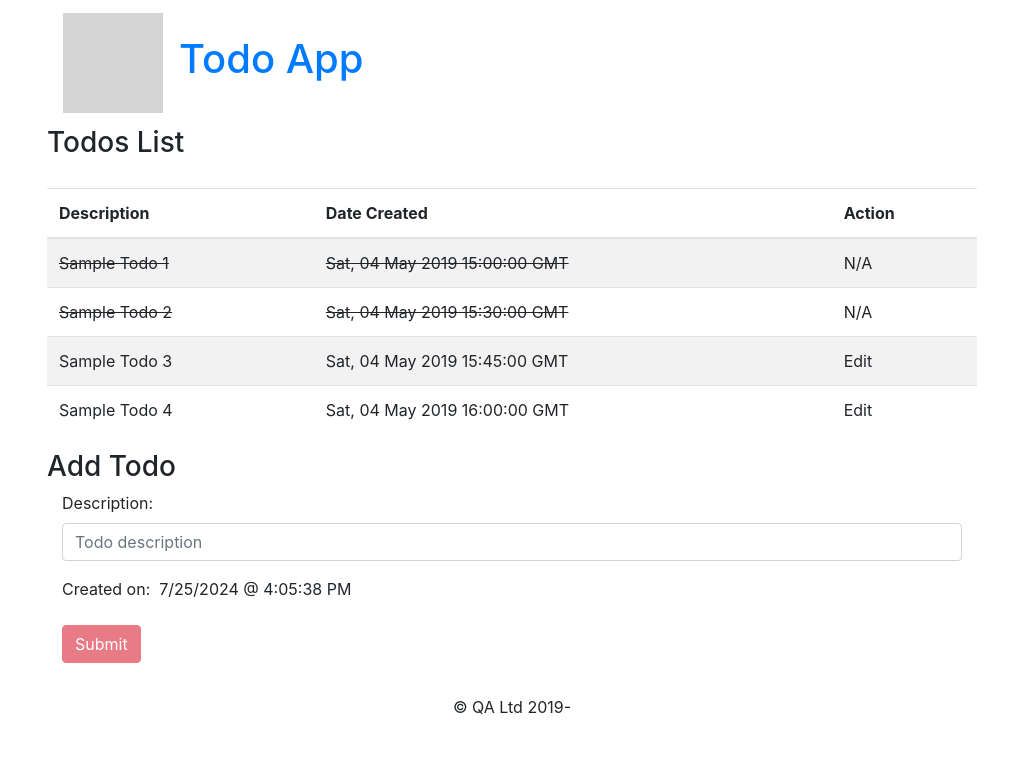
Test: Conditional renders dependent on result of data calls › should display the modal when postError state is truthy from a post request
Step 1. Type "Sample Todo" into the field with placeholder "Todo description" → (512, 542), box [62,523,962,561]
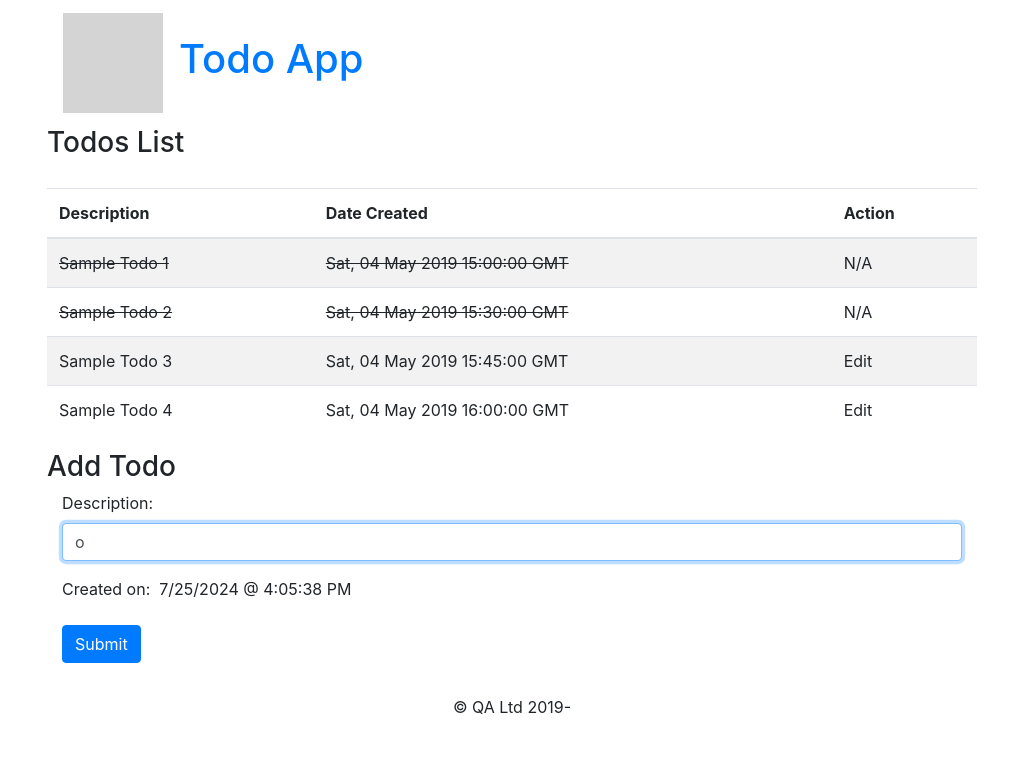
Step 2. Click the button showing "submit" → (101, 644), box [62,625,141,663]
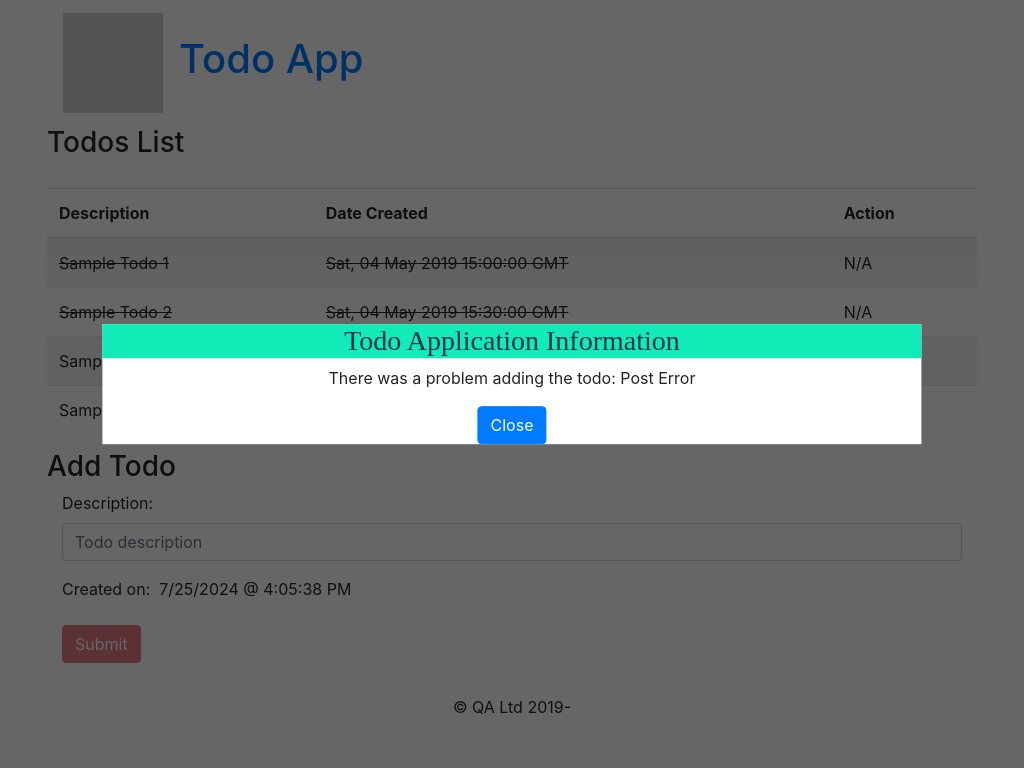
Expected: the heading "Todo Application Information" is shown, [102,324,922,358]
Expected: the text "There was a problem adding the todo: Post Error" is shown, [328,368,696,388]
